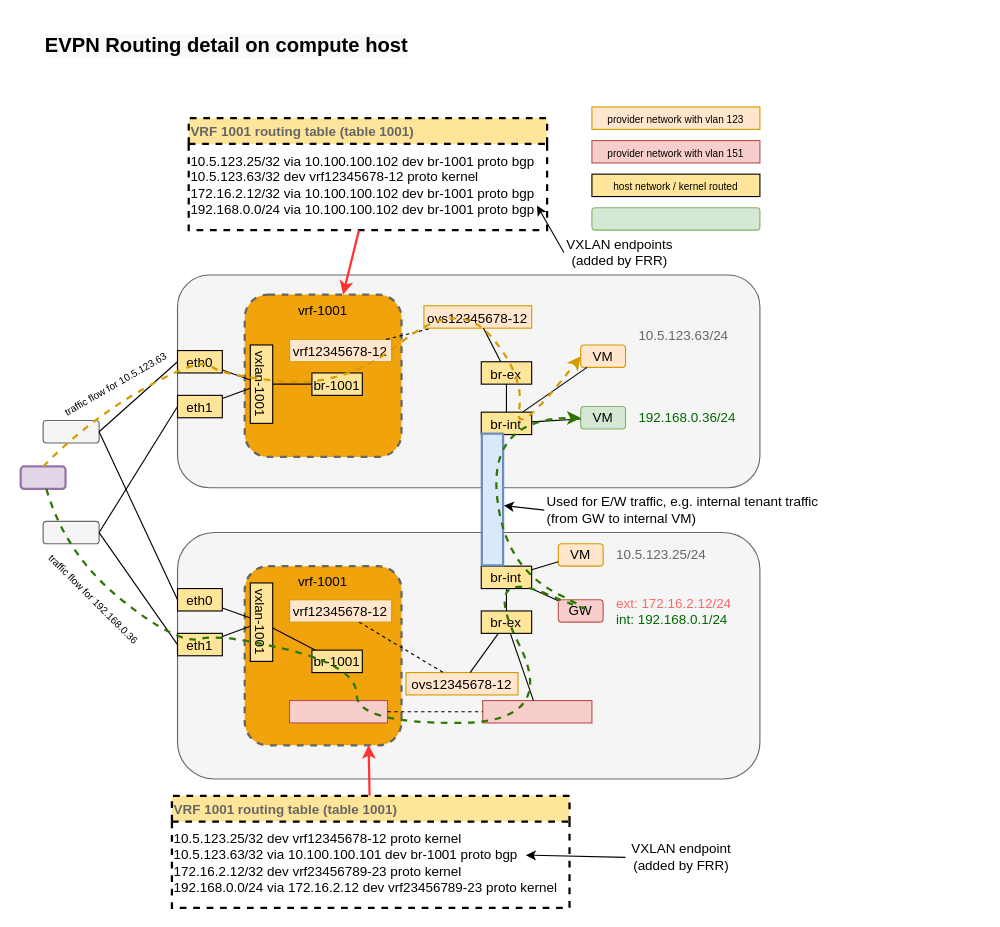
Some shapes in this 1000 by 927 pixel diagram are drawn without their labels. The shapes that lost their labels are listed below. From the top down, each one's box as (x1, y1, x2, y2) in pixels, then its label:
(591, 207, 760, 230): tenant network (behind neutron GW)
(176, 274, 760, 488): Host-1 - 10.100.100.101
(42, 419, 99, 443): Leaf 1
(19, 465, 66, 489): external
(480, 432, 504, 566): geneve
(42, 520, 99, 544): Leaf 2
(176, 531, 760, 779): Host-2 - 10.100.100.102
(288, 699, 388, 723): vrf23456789-23
(482, 699, 592, 723): ovs23456789-23
